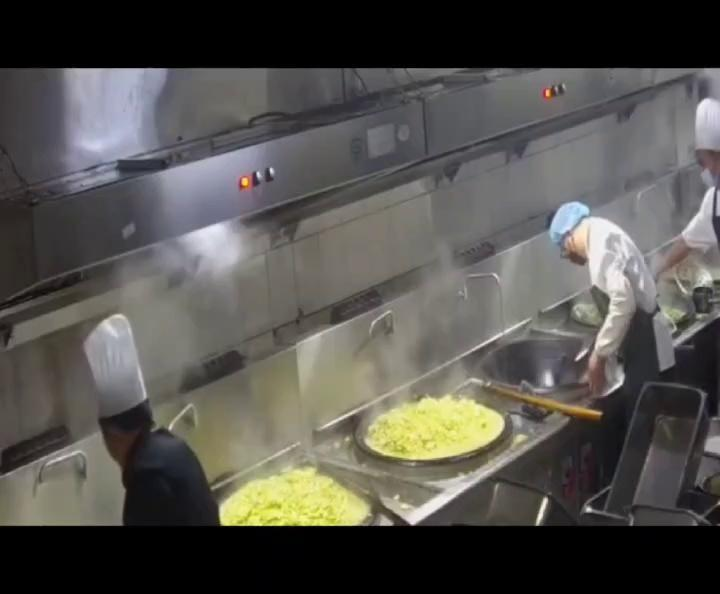gloves: (548, 200, 588, 248)
